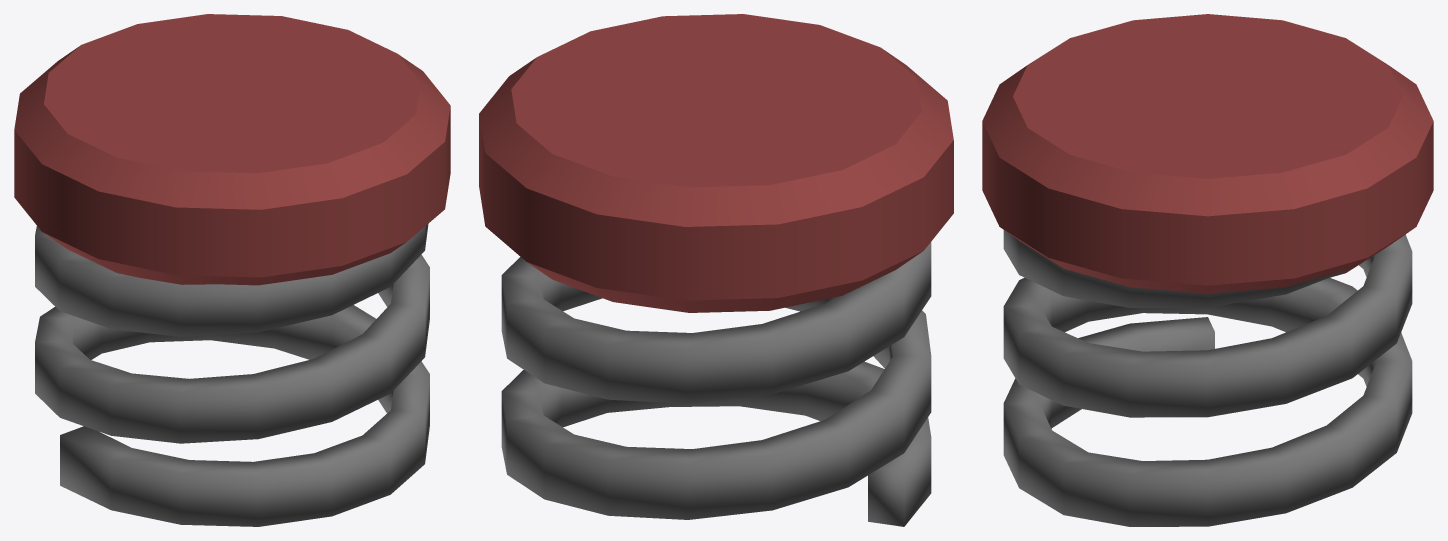
File: Bouncer_001.gltf
3 renders of one model, left to right at view 1: azimuth 30°, elevation 25°; view 2: azimuth 150°, elevation 25°; view 3: azimuth 270°, elevation 25°, orthographic. The views are drawn at different scales.
Parts seen in each view (by area): view 1: Bouncer.001; view 2: Bouncer.001; view 3: Bouncer.001.
Part boxes in pixels (bbox=[...]): Bouncer.001: bbox=[14, 14, 450, 526]; Bouncer.001: bbox=[479, 14, 953, 526]; Bouncer.001: bbox=[982, 14, 1433, 526].
Size of the model in its own units: 1.44 by 1.26 by 1.44.
